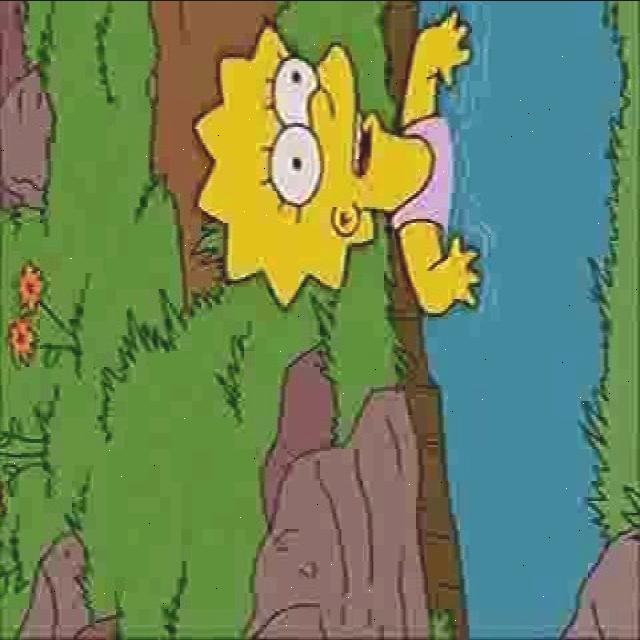Lisa Simpson: (190, 23, 397, 309)
